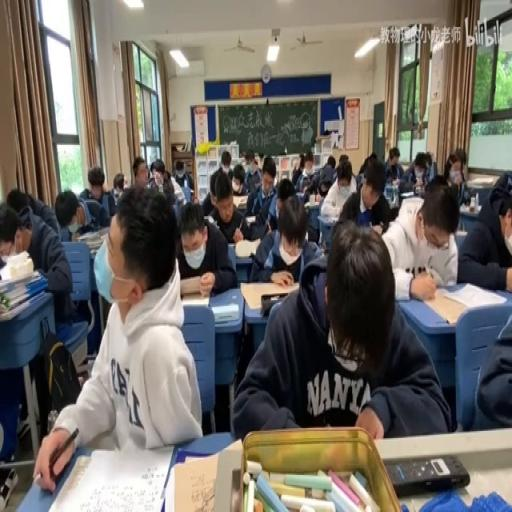calculator: (42, 444, 170, 509), (168, 453, 222, 512), (438, 280, 504, 313), (240, 280, 298, 309), (0, 288, 45, 322), (76, 228, 108, 250), (212, 302, 238, 324), (180, 289, 211, 307), (234, 238, 259, 258), (466, 174, 495, 186), (232, 194, 248, 208), (304, 196, 321, 208), (317, 214, 337, 224), (294, 189, 309, 201), (204, 215, 217, 226), (243, 214, 256, 224), (400, 190, 413, 198), (454, 229, 468, 236)
paper: (233, 220, 444, 442), (0, 192, 74, 451), (379, 176, 459, 294), (248, 189, 322, 282), (457, 170, 512, 291), (174, 198, 236, 296), (470, 293, 512, 429), (338, 155, 392, 233), (77, 165, 114, 222), (400, 151, 432, 196), (442, 148, 468, 203), (297, 152, 327, 198), (208, 149, 234, 192), (244, 174, 267, 219), (171, 156, 194, 195), (383, 145, 403, 181), (6, 186, 30, 216), (230, 162, 248, 199), (356, 151, 375, 176), (276, 176, 294, 200), (130, 156, 146, 180), (149, 159, 165, 178), (112, 174, 125, 190), (338, 154, 348, 168), (304, 150, 314, 164), (210, 193, 218, 209), (245, 150, 254, 164), (326, 155, 334, 169), (318, 186, 329, 196), (163, 169, 170, 182), (298, 156, 304, 170), (253, 156, 259, 170), (102, 180, 108, 194), (240, 150, 246, 160)
person: (385, 452, 470, 495), (230, 468, 242, 510), (378, 220, 385, 232)
